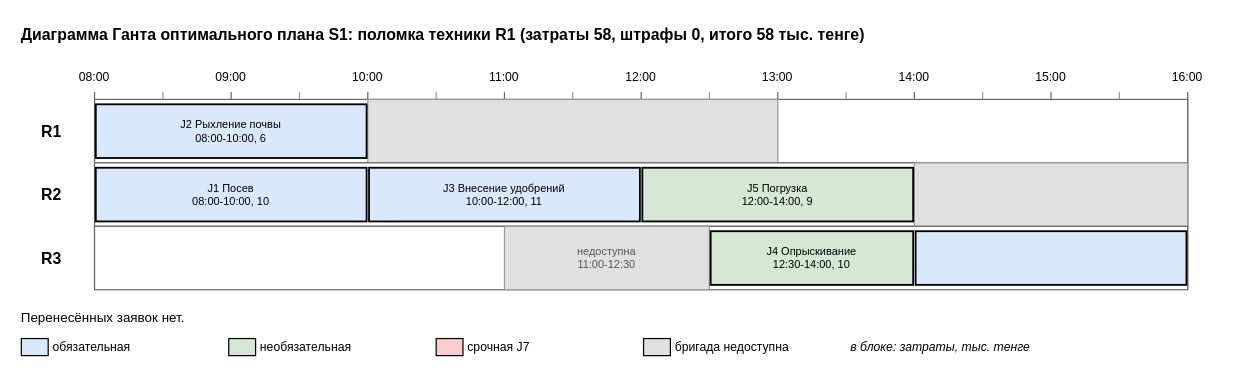
The diagram is 1238 pixels wide and 378 high, and some of its shapes have lost their labels. The box of each missing label's shape, as (x1, y1, x2, y2) in pixels:
J6 Перевозка 14:00-16:00, 12: (914, 230, 1187, 285)
недоступна 10:00-13:00: (367, 98, 778, 163)
недоступна 14:00-16:00: (913, 162, 1188, 226)
